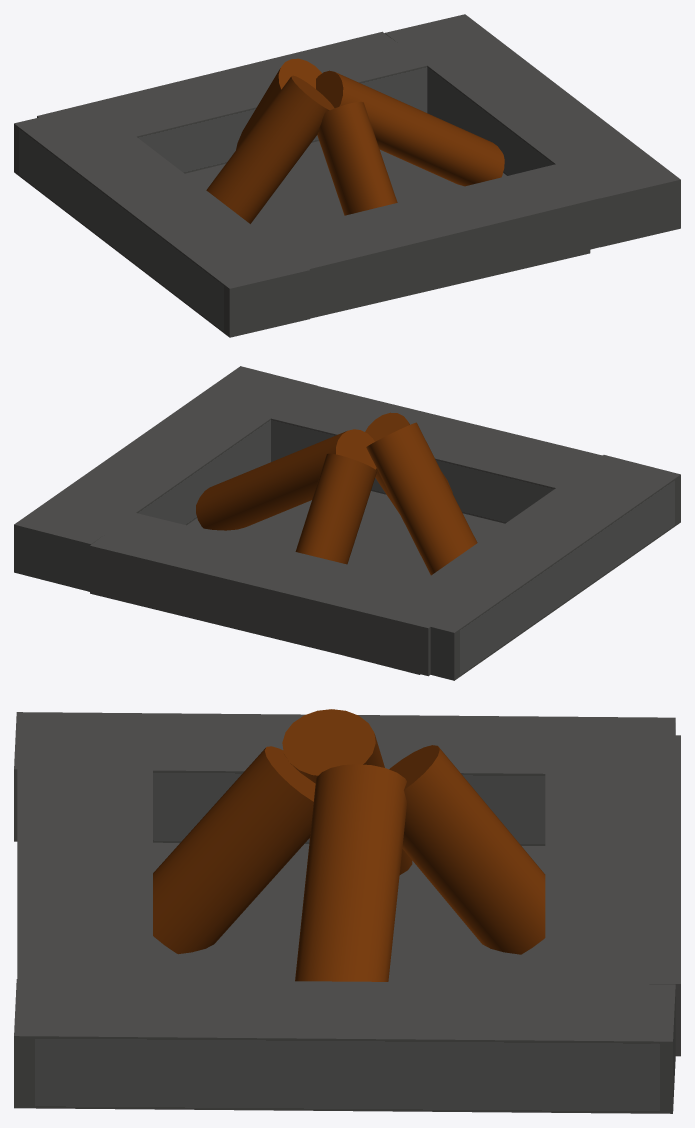
File: firpit-exp.fbx
The picture shows the model from 3 angles, top to bottom: view 1: azimuth 30°, elevation 25°; view 2: azimuth 150°, elevation 25°; view 3: azimuth 270°, elevation 25°; orthographic projection. The views are drawn at different scales.
Visible parts, largest first — view 1: pCube4, pCube3, pCube2, pCube1, pCylinder2, pCylinder4, pCube5, pCylinder3, pCylinder1; view 2: pCube1, pCube4, pCube2, pCube3, pCylinder4, pCylinder2, pCube5, pCylinder1, pCylinder3; view 3: pCube2, pCube4, pCube1, pCube3, pCube5, pCylinder2, pCylinder3, pCylinder1, pCylinder4.
Part boxes in pixels (x1,y1,x2,y2): pCube4: [14, 105, 310, 337]; pCube3: [226, 163, 606, 317]; pCube2: [384, 14, 680, 247]; pCube1: [37, 31, 427, 173]; pCylinder2: [316, 70, 504, 186]; pCylinder4: [206, 75, 334, 223]; pCube5: [185, 141, 590, 318]; pCylinder3: [317, 101, 397, 215]; pCylinder1: [236, 58, 321, 149]; pCube1: [90, 513, 472, 676]; pCube4: [377, 455, 680, 680]; pCube2: [14, 366, 317, 591]; pCube3: [267, 384, 648, 523]; pCylinder4: [366, 422, 477, 575]; pCylinder2: [196, 429, 376, 530]; pCube5: [187, 491, 504, 674]; pCylinder1: [295, 453, 376, 564]; pCylinder3: [365, 412, 452, 513]; pCube2: [14, 979, 675, 1113]; pCube4: [14, 712, 675, 845]; pCube1: [545, 735, 680, 1056]; pCube3: [17, 735, 152, 983]; pCube5: [153, 842, 545, 983]; pCylinder2: [295, 764, 407, 981]; pCylinder3: [153, 746, 315, 954]; pCylinder1: [389, 745, 545, 954]; pCylinder4: [282, 709, 412, 874].
Bounding box in the file's own units: 116 × 39.94 × 99.19.
